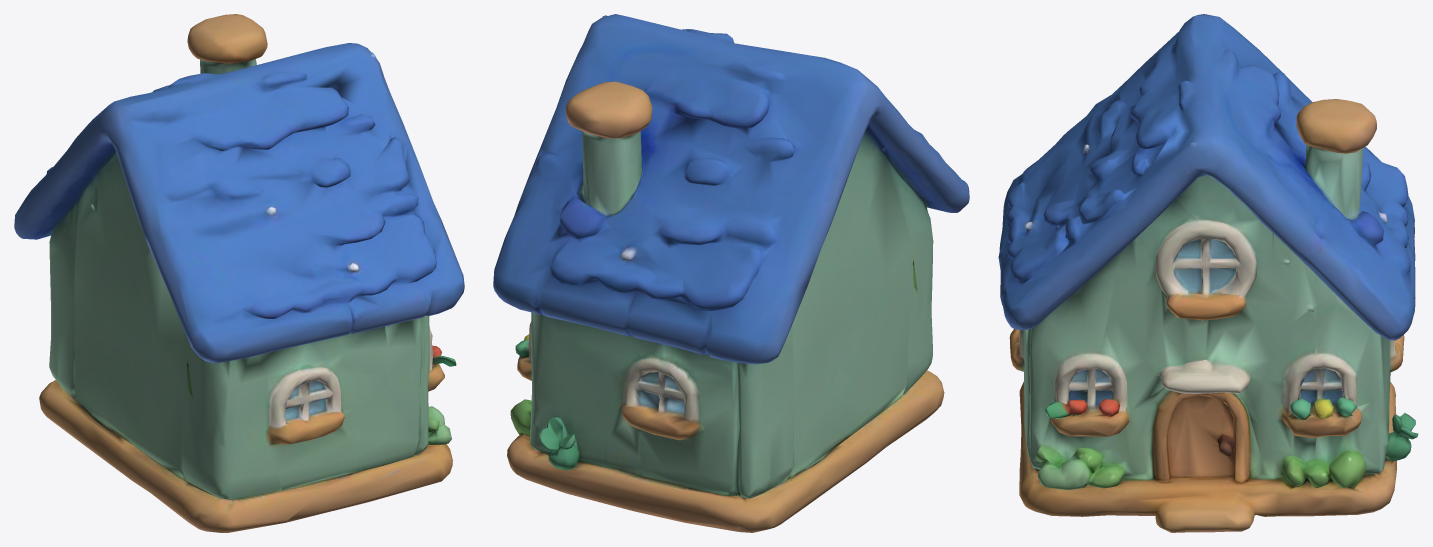
File: street-cottage.glb
3 renders of one model, left to right at view 1: azimuth 30°, elevation 25°; view 2: azimuth 150°, elevation 25°; view 3: azimuth 270°, elevation 25°, orthographic. The views are drawn at different scales.
Visible parts, largest first — view 1: tripo_node_a6c0118f-f236-42ca-9fb0-84d45e96c94c; view 2: tripo_node_a6c0118f-f236-42ca-9fb0-84d45e96c94c; view 3: tripo_node_a6c0118f-f236-42ca-9fb0-84d45e96c94c.
Part boxes in pixels (box(x1,y1,x2,y2)): tripo_node_a6c0118f-f236-42ca-9fb0-84d45e96c94c: box(14, 14, 464, 532); tripo_node_a6c0118f-f236-42ca-9fb0-84d45e96c94c: box(493, 14, 969, 532); tripo_node_a6c0118f-f236-42ca-9fb0-84d45e96c94c: box(998, 14, 1418, 532).
Bounding box in the file's own units: 0.821 × 1 × 0.9858.
Materials: 1 (1 with a texture image).
